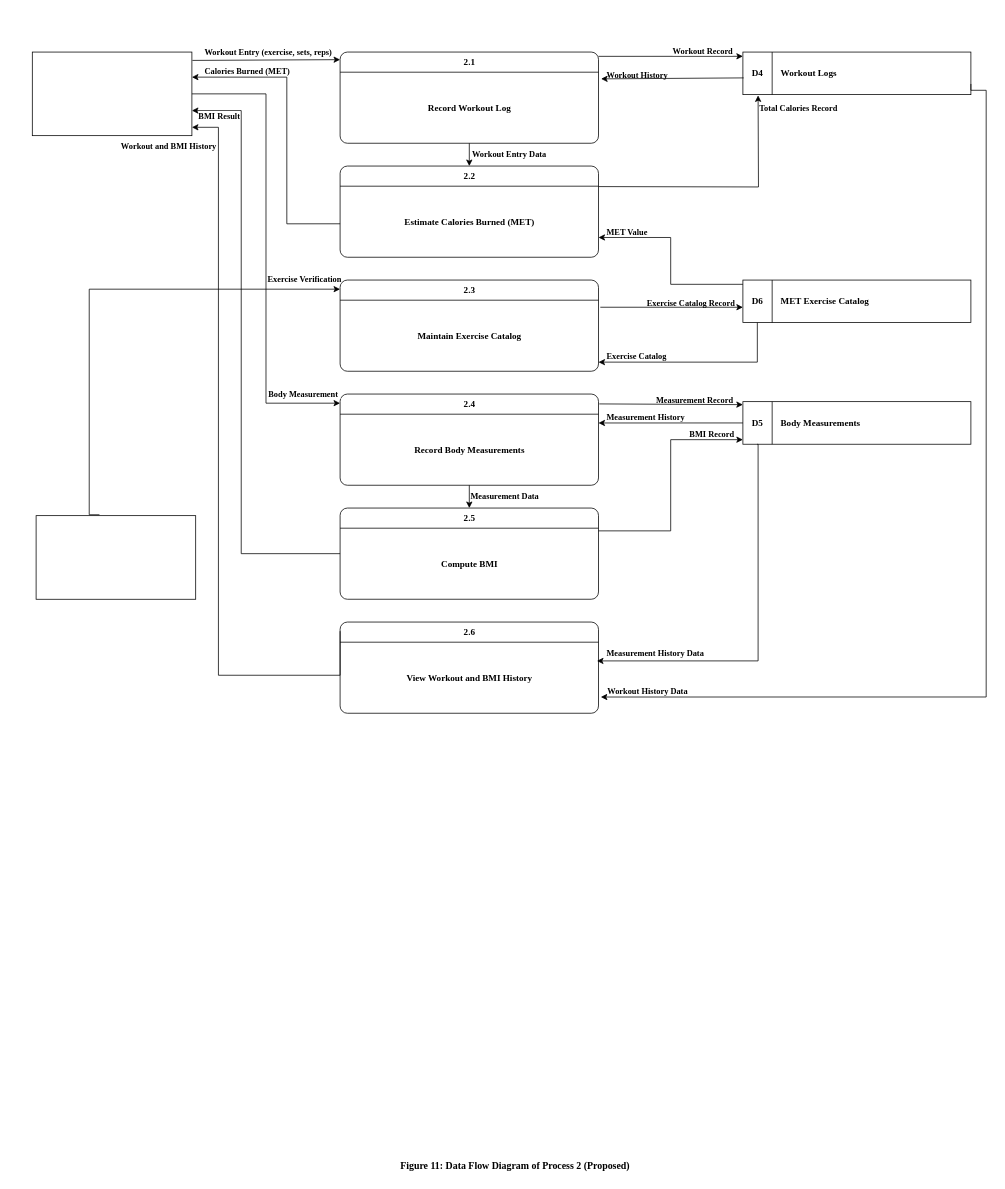
Image size: 1005x1189. Some labels were removed from this diagram. The shapes that lost their labels are listed below. From the top down, each one's centre as x and y in pixels, then its label:
At pixel 112 93: "MEMBER".
At pixel 115 557: "TRAINER".
